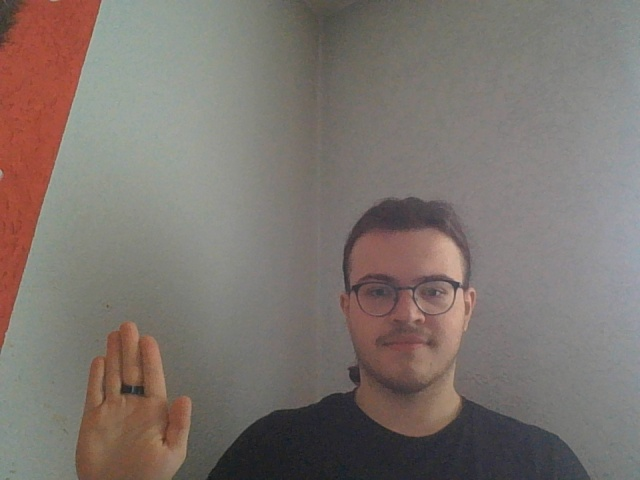Hello: (72, 320, 195, 480)
